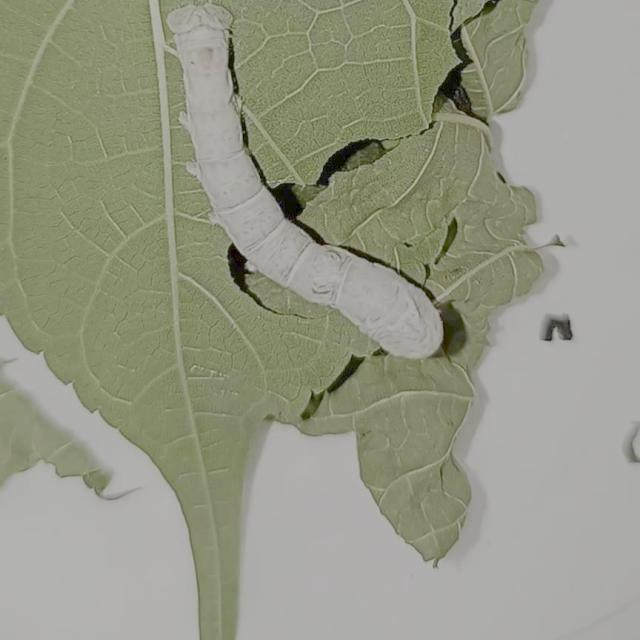Healthy: (157, 2, 462, 370)
